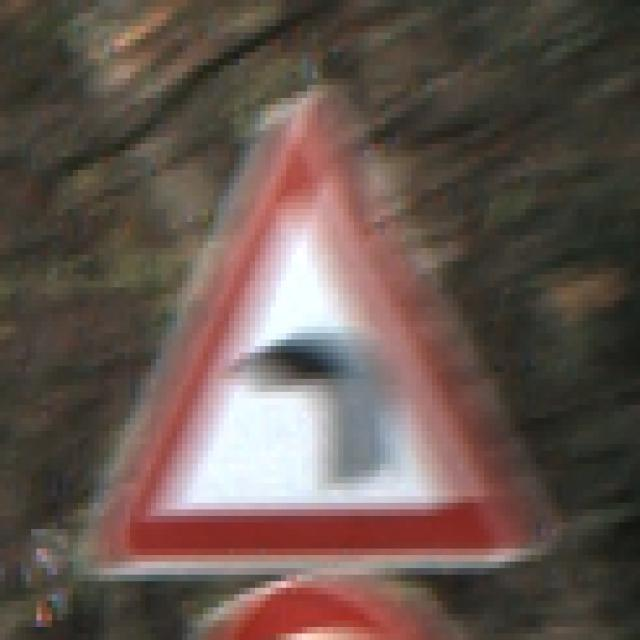left hand curve: (66, 80, 558, 566)
